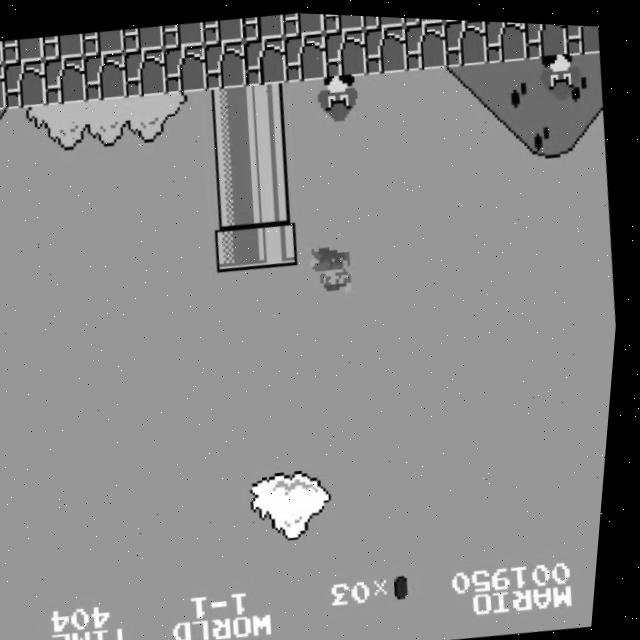11- little_mario: (310, 241, 362, 297)
14- pipe: (204, 83, 255, 136), (251, 170, 302, 222), (248, 124, 298, 177), (208, 128, 258, 181), (245, 79, 295, 131), (212, 174, 262, 226)
15- pipe_head: (255, 215, 305, 268), (215, 219, 265, 272)
17- undestructible_block: (361, 20, 412, 73), (201, 37, 252, 90), (81, 50, 132, 102), (41, 54, 92, 106), (401, 16, 451, 69), (281, 29, 331, 82), (241, 33, 291, 86), (161, 41, 211, 94), (121, 45, 171, 98), (2, 58, 52, 111), (321, 25, 371, 77), (441, 16, 491, 64), (480, 17, 530, 61), (521, 18, 570, 56), (161, 19, 207, 49), (121, 23, 167, 53), (241, 10, 286, 40), (201, 15, 246, 45), (81, 27, 126, 57), (41, 32, 87, 61), (1, 36, 47, 65), (562, 20, 602, 52), (280, 10, 326, 35), (321, 11, 366, 32), (360, 13, 405, 27), (0, 63, 11, 115), (400, 14, 445, 24), (0, 41, 6, 69)
8- goomba: (537, 44, 589, 101), (315, 68, 367, 124)
